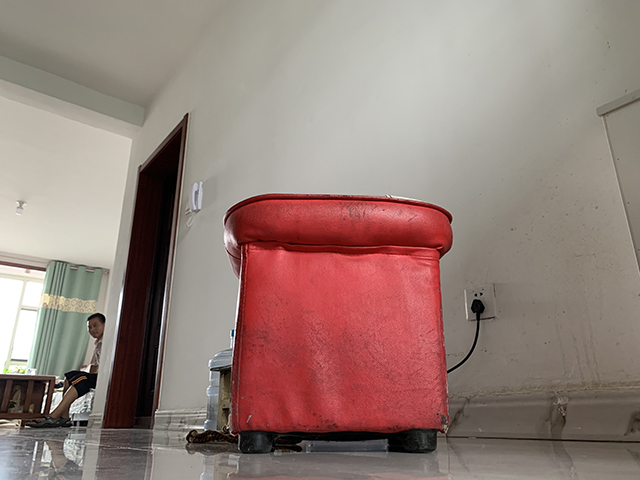stool: (221, 190, 455, 456)
table: (1, 373, 56, 428)
wire: (446, 294, 492, 374)
